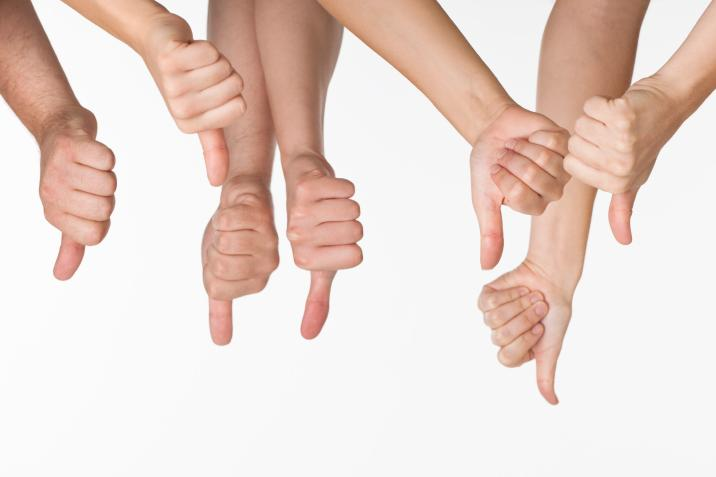thumbsdown: (475, 126, 573, 273), (156, 39, 246, 187), (286, 176, 362, 340), (563, 98, 642, 245), (200, 202, 280, 346), (37, 139, 116, 282), (476, 283, 559, 406)
